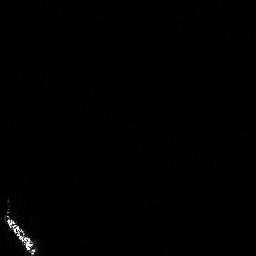ship: (1, 199, 40, 256)
